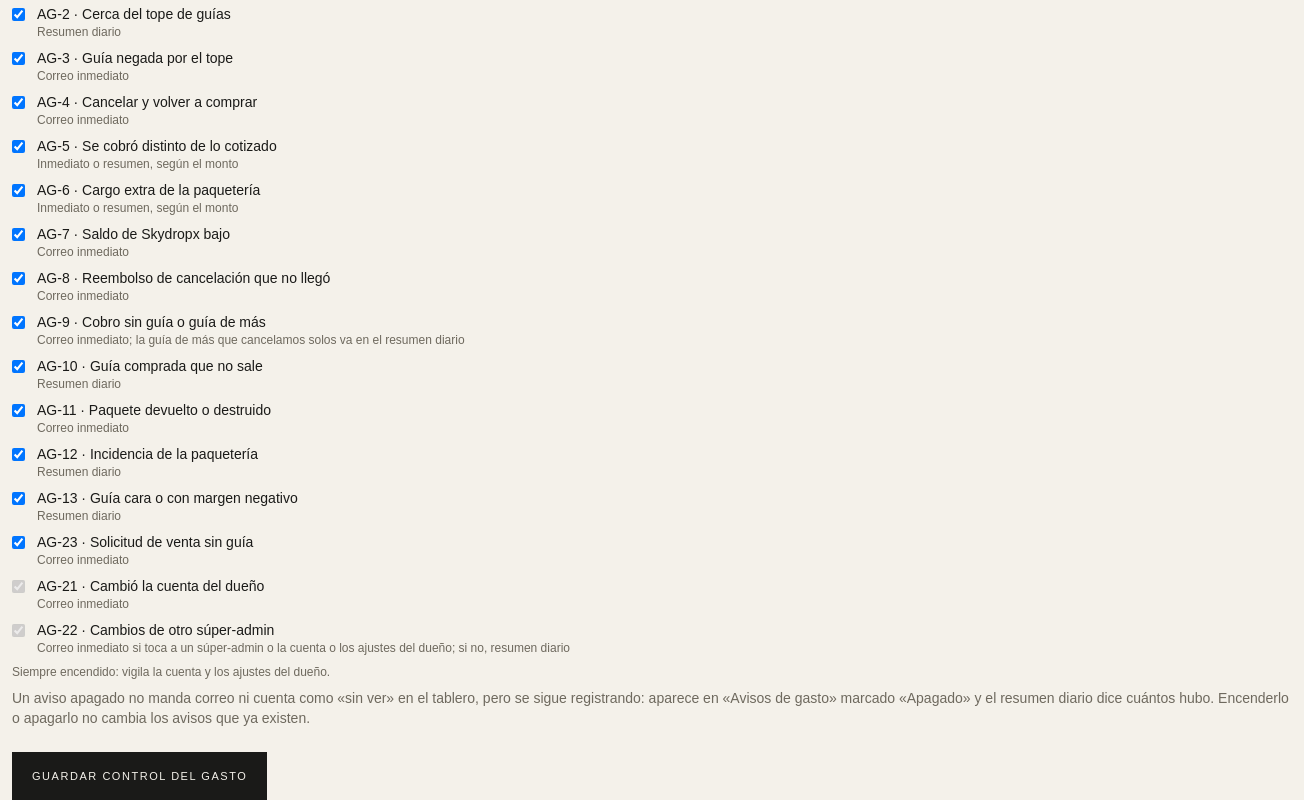
Test: UX-GAS-4 · «Control del gasto»: rangos, apagar pregunta, se mandan los DESMARCADOS › `422 {field}` del servidor ⇒ el error bajo SU campo
The width and height of the screenshot is (1304, 800).
(page scrolled)
Click the button "Guardar control del gasto" at point(140, 776), box top-left (12, 752), bottom-right (267, 799)
(page scrolled)
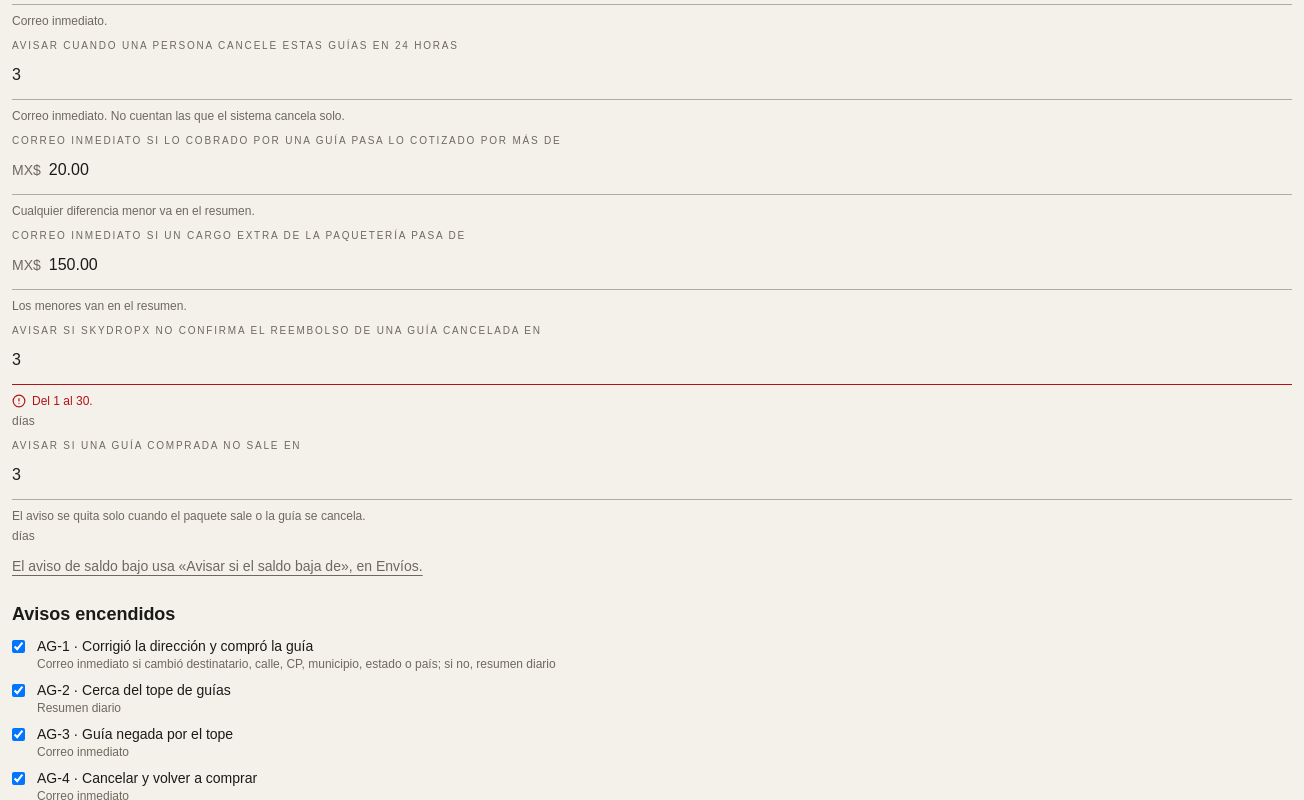
Expected: the text "Del 1 al 30." is shown, top-left (12, 394), bottom-right (93, 408)
